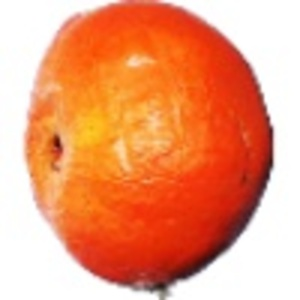tangerina: (22, 1, 278, 300)
